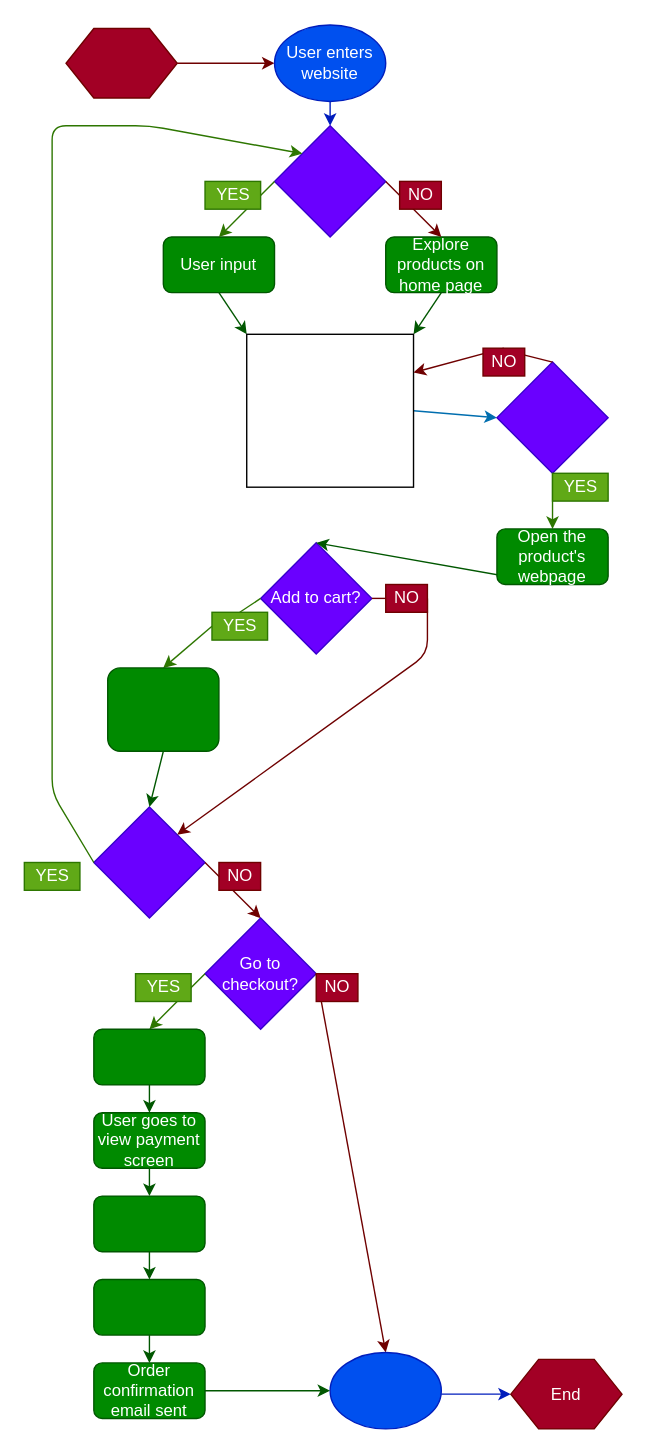
This 646x1453 diagram has some shape labels left out. Here are the shapes that lost their labels. From the top down, the box of each, then its label:
(65, 27, 177, 98): Start
(273, 124, 386, 237): Search for a product?
(245, 333, 414, 487): List of Products Item 1 Item 2 Etc
(496, 361, 608, 473): View a product?
(106, 667, 219, 751): Recieve "added to cart" confirmation
(92, 806, 205, 918): Continue Shopping?
(92, 1028, 205, 1085): User goes to the view cart screen
(92, 1195, 205, 1252): User goes to input their payment info
(92, 1278, 205, 1335): Displays order confirmation screen
(329, 1351, 441, 1429): User leaves website
